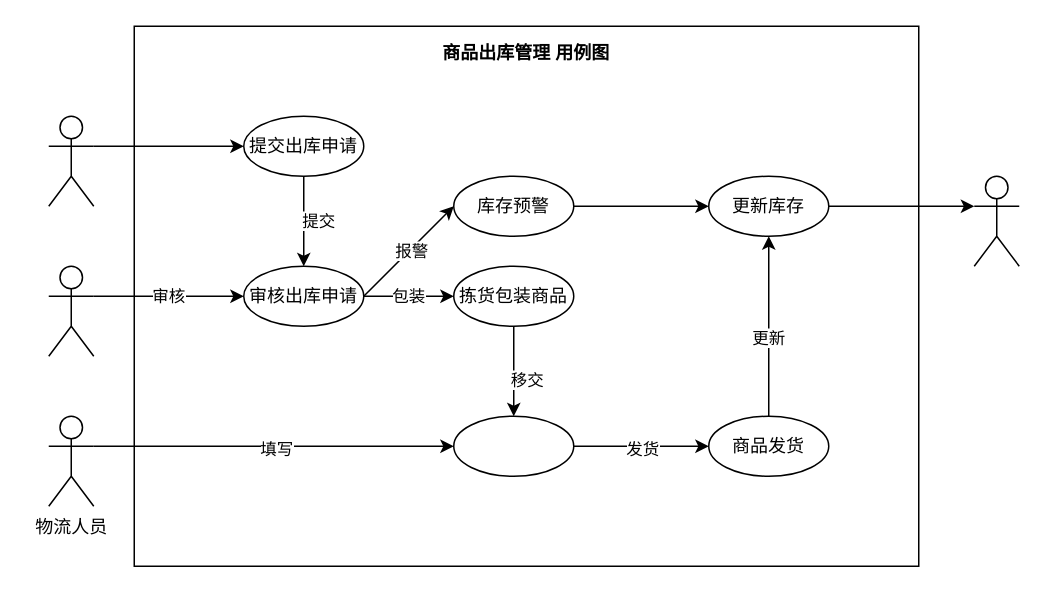
This 1046x593 diagram has some shape labels left out. Each missing label, with the centre of its shape:
"仓库管理员" belongs at [70,310].
"生成订单" belongs at [513,445].
"系统" belongs at [996,220].
"销售员" belongs at [70,160].
